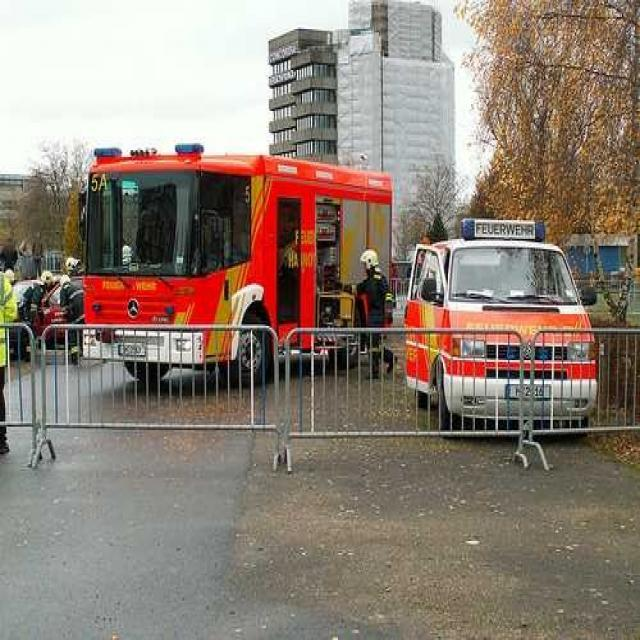emergency-vehicle: (404, 208, 596, 430)
